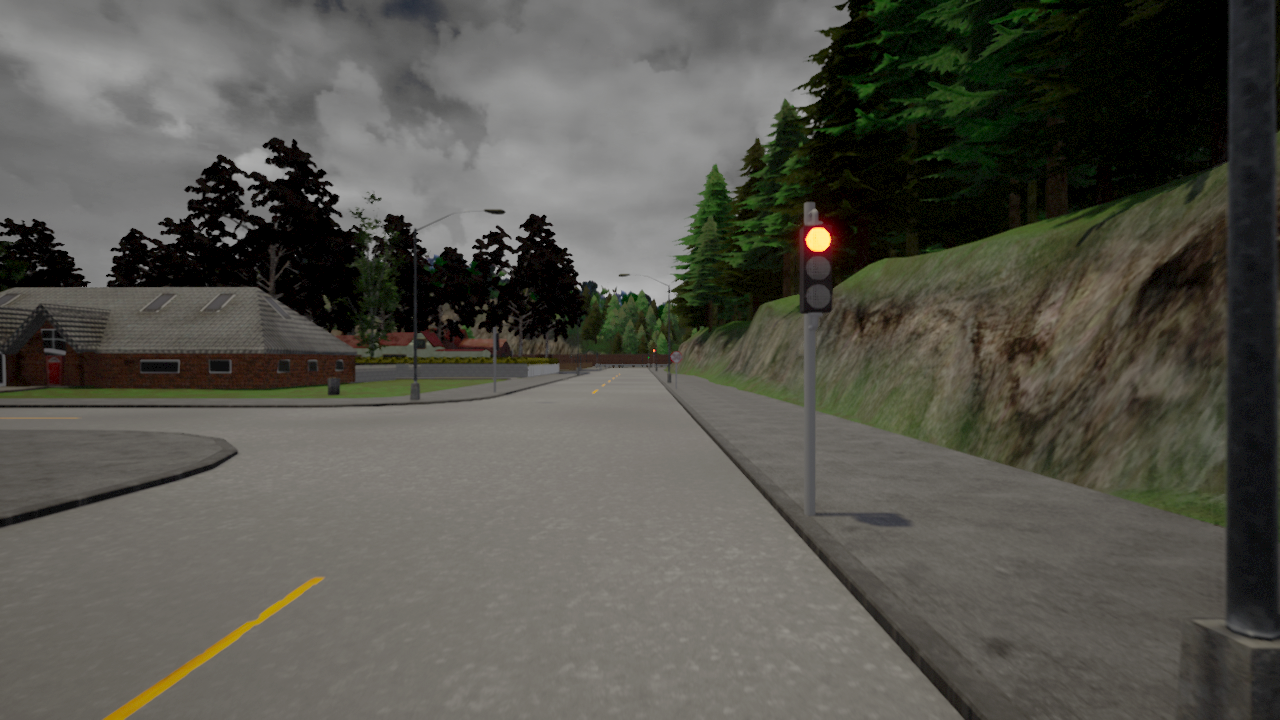red: (799, 220, 834, 315)
